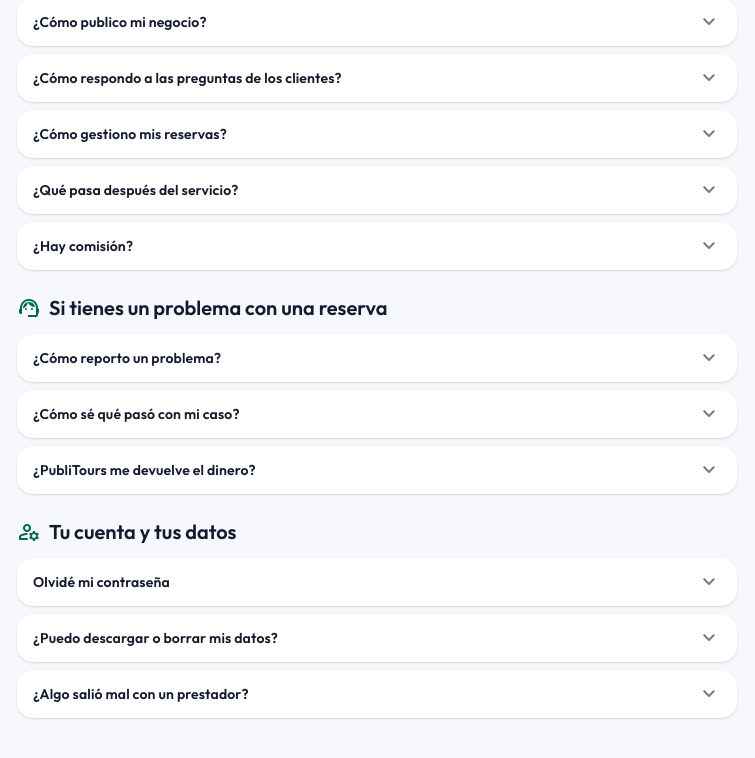
Test: Ayuda: mensajes con el negocio › avisa que al eliminar la cuenta también se borran los mensajes
(page scrolled)
Click the heading "¿Puedo descargar o borrar mis datos?".
click(156, 638)  # box [33,624,721,652]
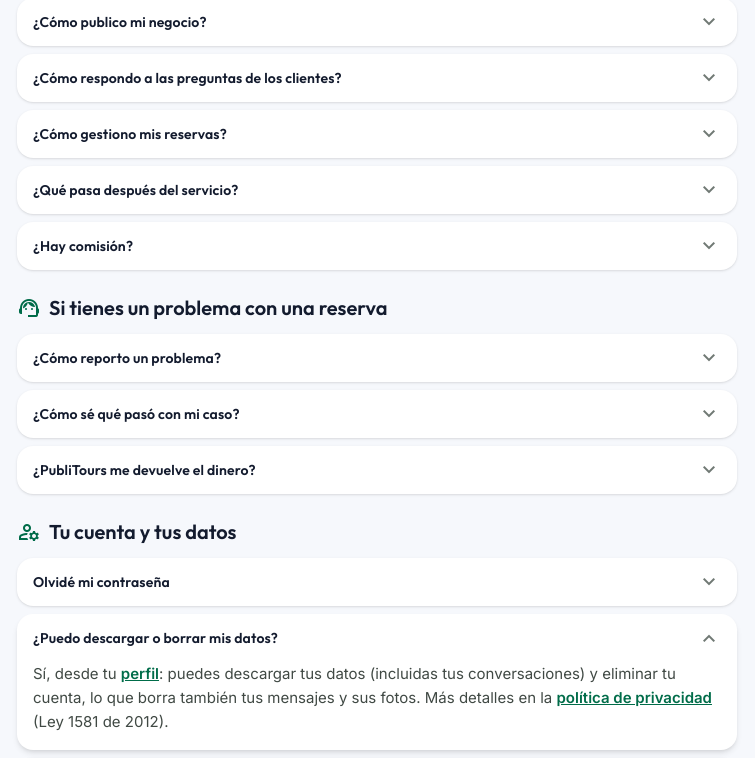
Now the text "borra también tus mensajes y sus fotos" is shown, box [33,664,676,707]
